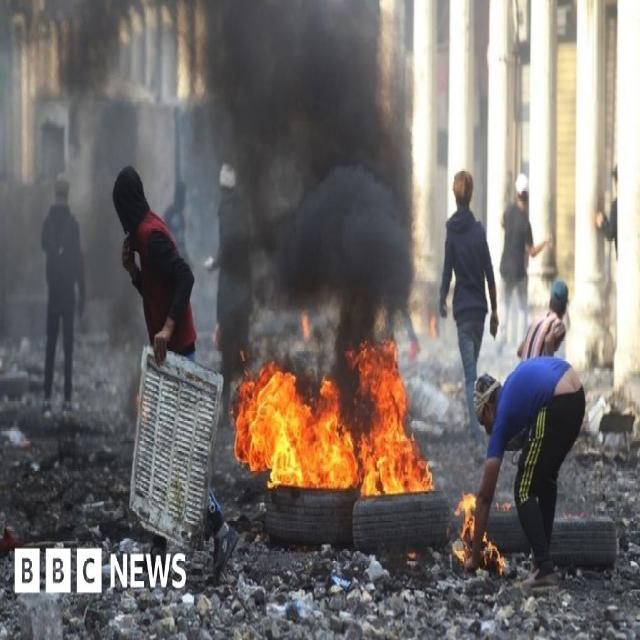fire: (233, 359, 358, 491), (346, 340, 433, 496), (453, 494, 477, 562)
